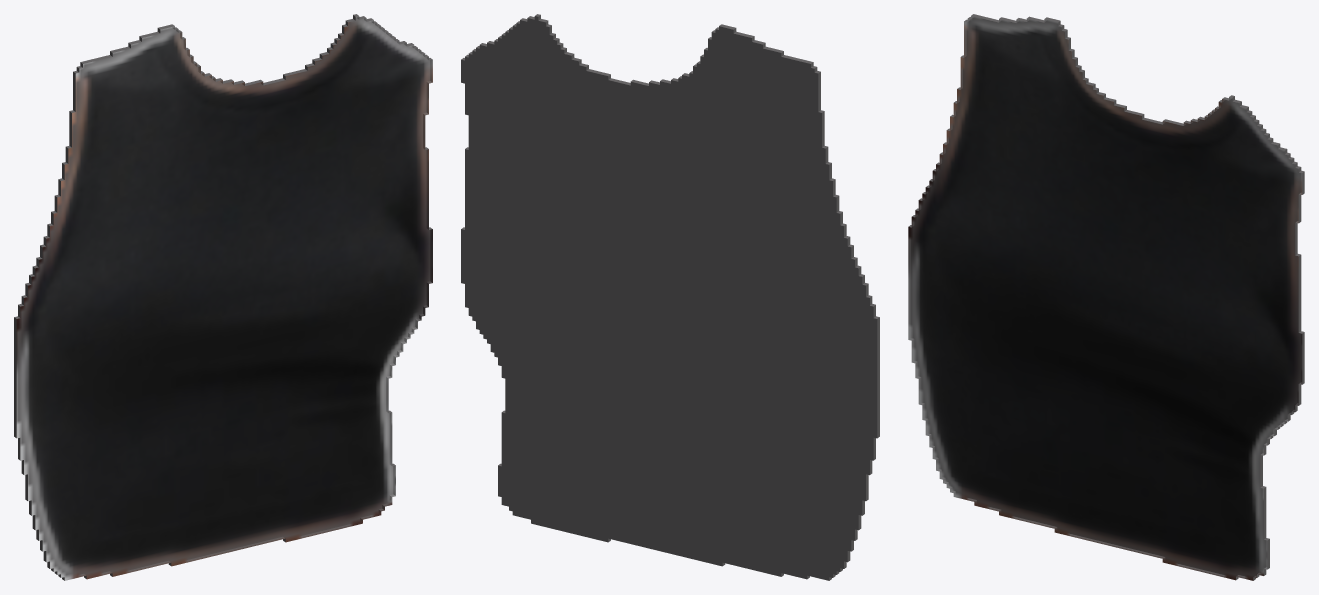
3 views of the same model, side by side, from view 1: azimuth 30°, elevation 25°; view 2: azimuth 150°, elevation 25°; view 3: azimuth 330°, elevation 25° (orthographic). The views are drawn at different scales.
Visible parts, largest first — view 1: item_mesh; view 2: item_mesh; view 3: item_mesh.
Part boxes in pixels (<box>): item_mesh: <box>14,14,432,580</box>; item_mesh: <box>461,14,879,580</box>; item_mesh: <box>908,14,1304,580</box>.
Size of the model in its own units: 0.545 by 0.68 by 0.006.
2 materials, 1 textured.
